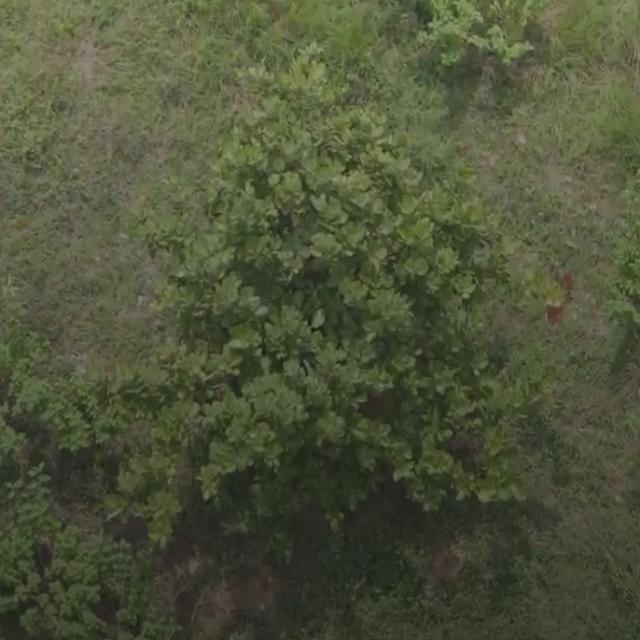notMangoTree: (119, 43, 529, 559), (0, 294, 151, 640), (400, 0, 558, 88)
